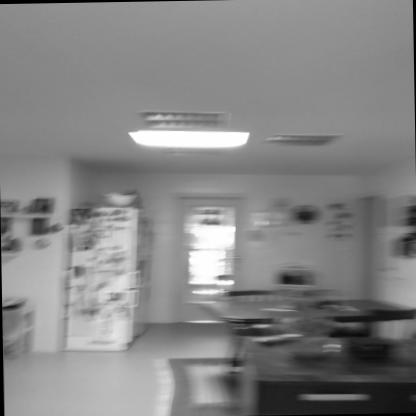closed: (158, 176, 252, 330)
